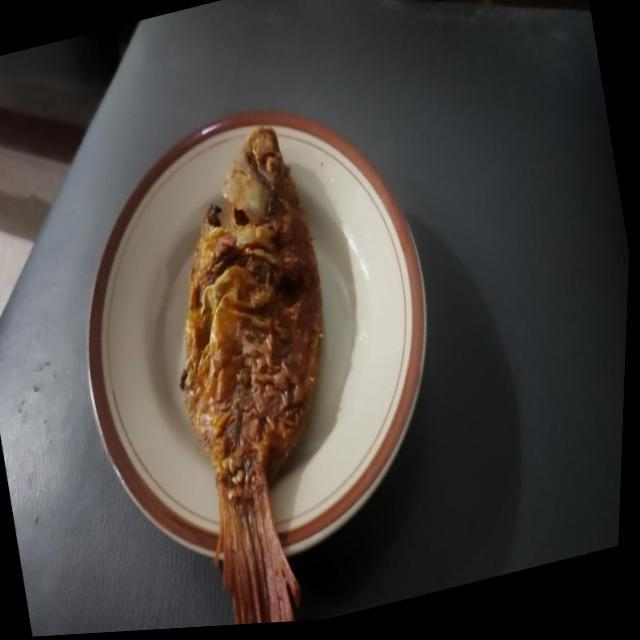ikan_mujair: (180, 126, 324, 624)
